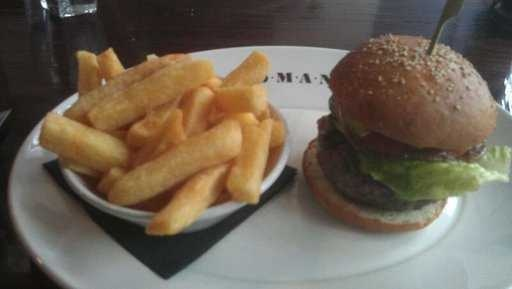hamburger: (300, 39, 490, 232)
